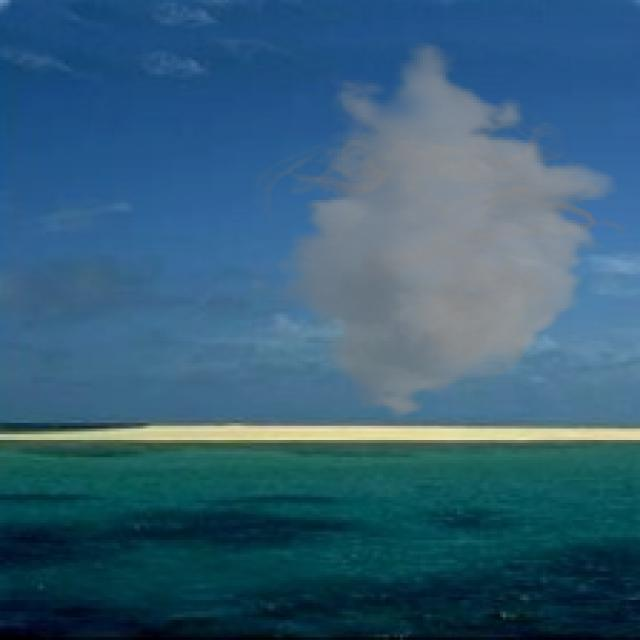Smoke: (246, 40, 632, 420)
